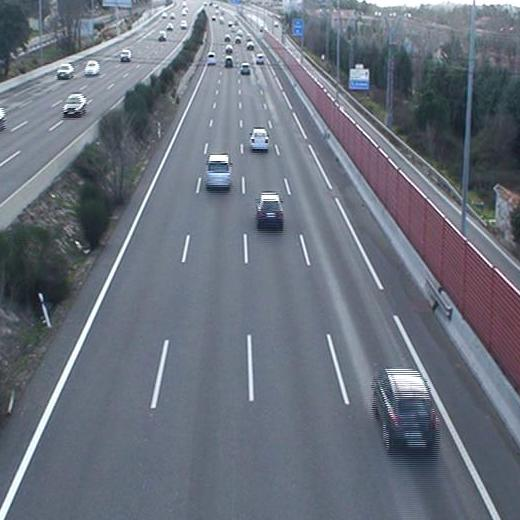car: (373, 369, 441, 456), (253, 192, 287, 231), (205, 153, 234, 189), (247, 127, 271, 152), (239, 61, 252, 75), (255, 53, 266, 66), (224, 56, 234, 68)
van: (206, 53, 218, 66)
